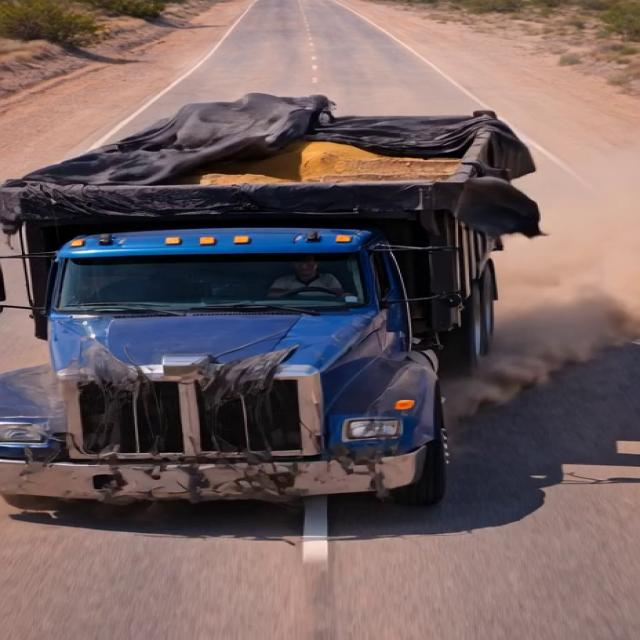Box: (9, 89, 515, 205)
Truck: (5, 67, 555, 500)
